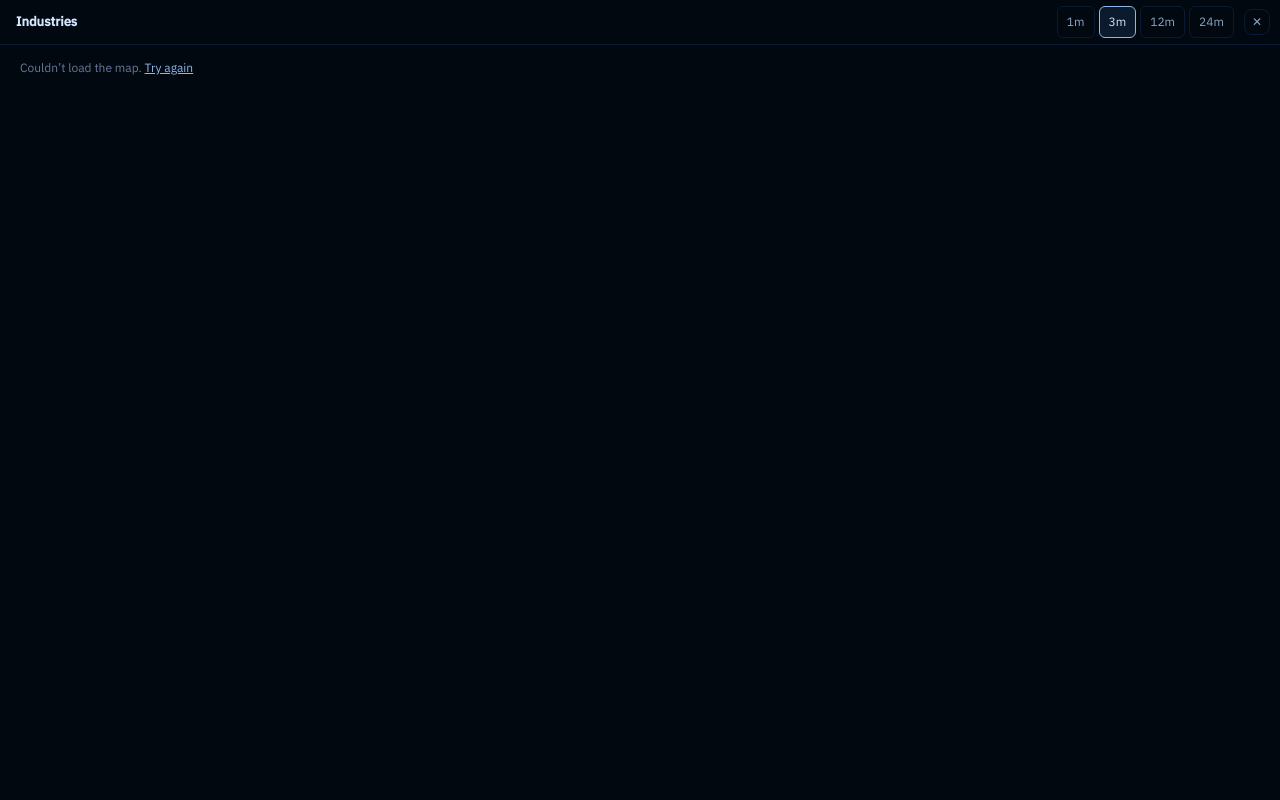
Test case: ForecastPanel — the map › says so when the map cannot be read, and retries
Expected: the text "Couldn’t load the map. Try again" is shown, [20,59,193,77]
Click the button "Try again": [169, 68] box [145,59,193,77]
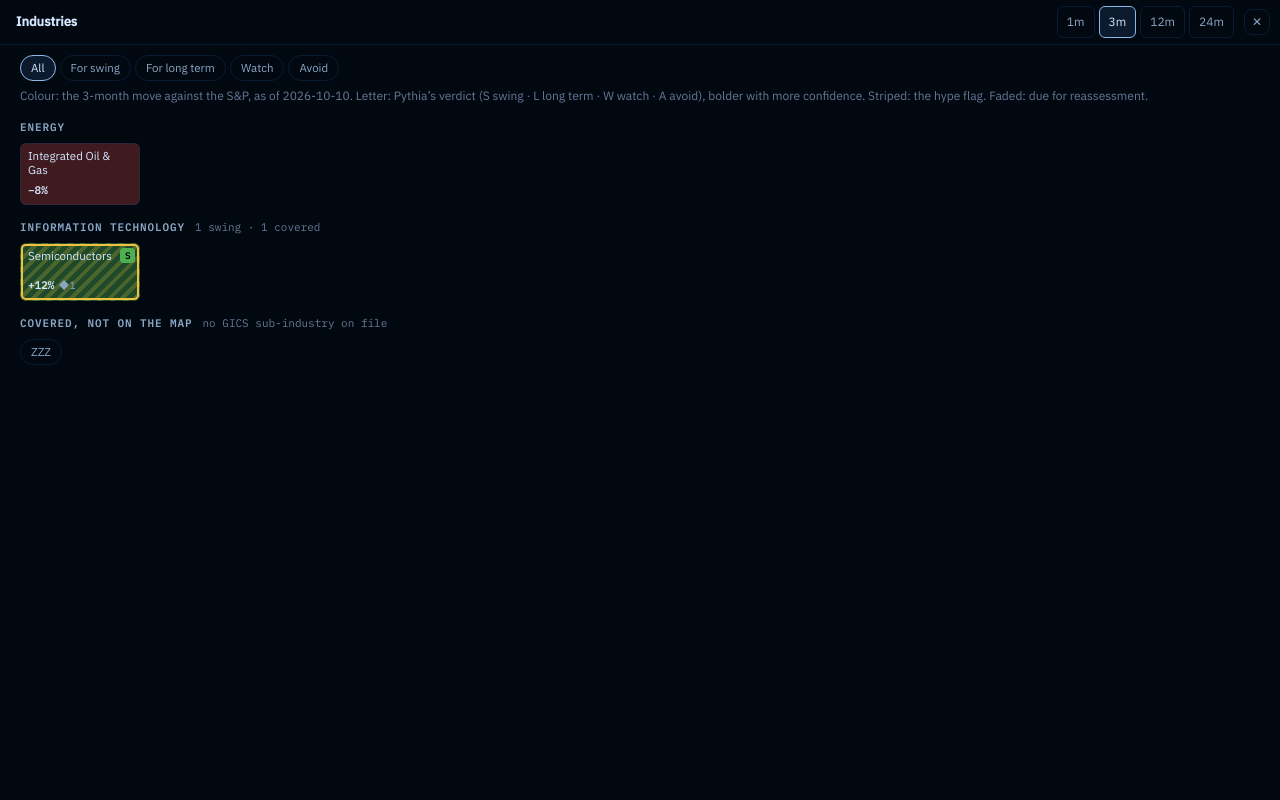
Result: the button "Semiconductors +12% ◆1 S" is shown at [20,243,140,301]
